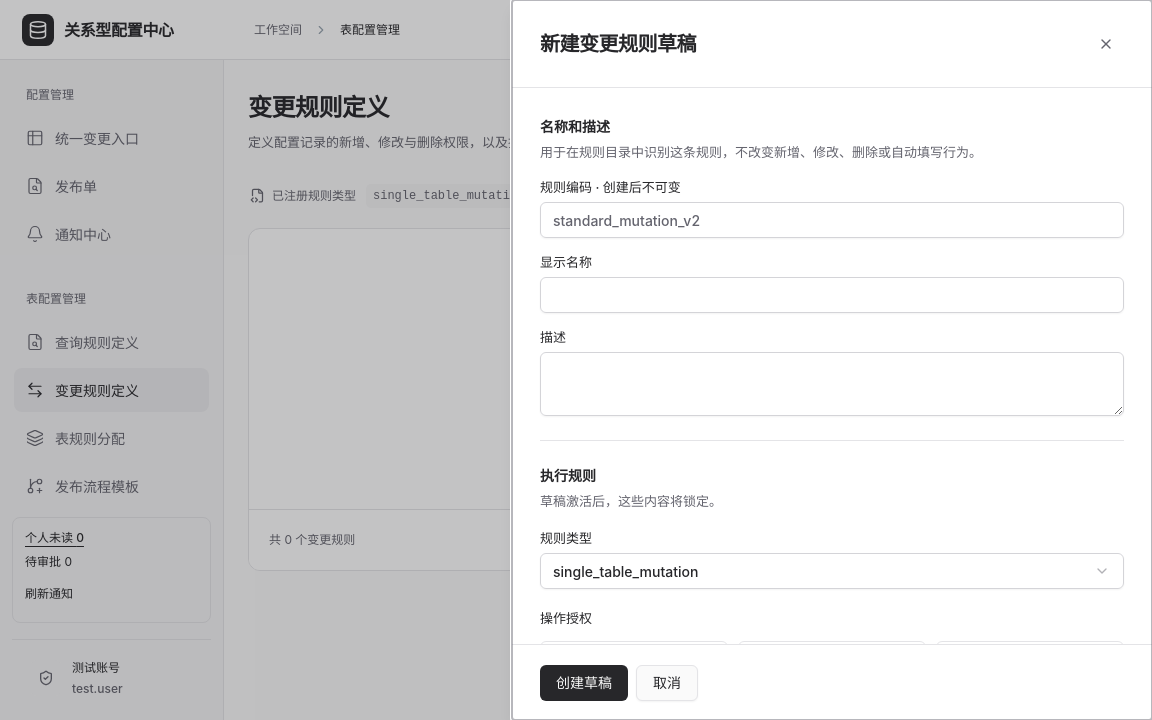
Scenario: keeps form input and presents stable Admin errors with Request ID
The width and height of the screenshot is (1152, 720).
Type "duplicate_mutation_v1" into the field labelled "规则编码 · 创建后不可变" at [832, 220], box x1=540 y1=202 x2=1124 y2=238
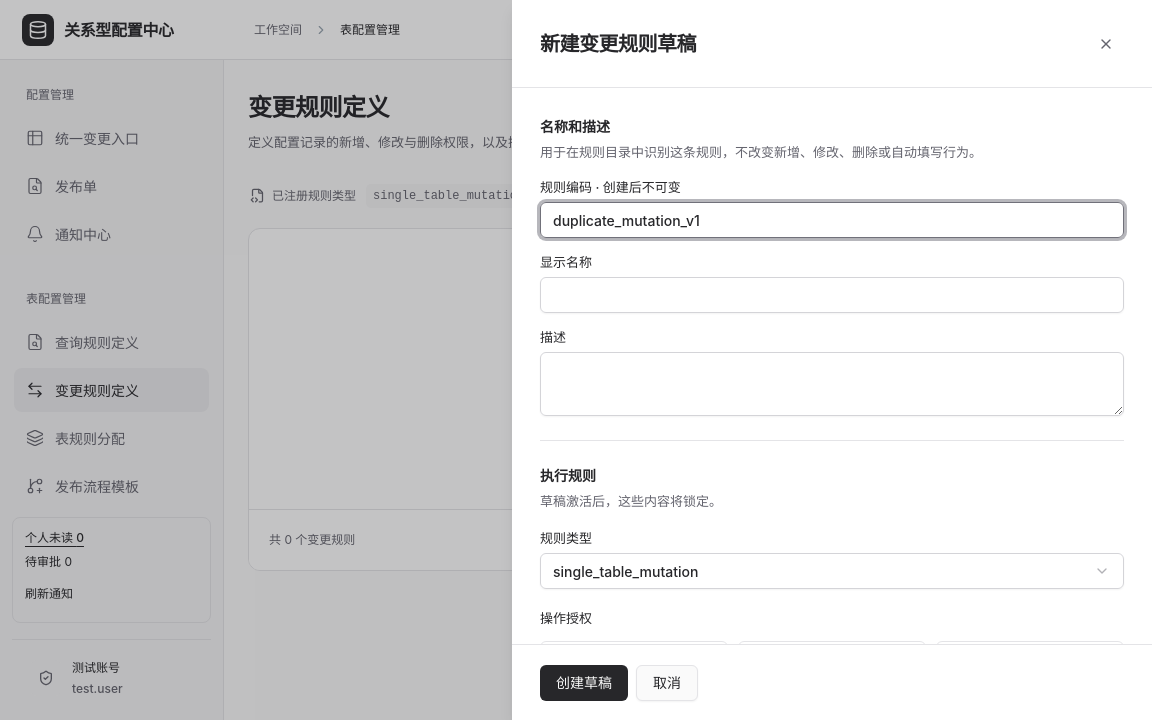
Type "重复规则" into the field labelled "显示名称" at [832, 295], box x1=540 y1=277 x2=1124 y2=313
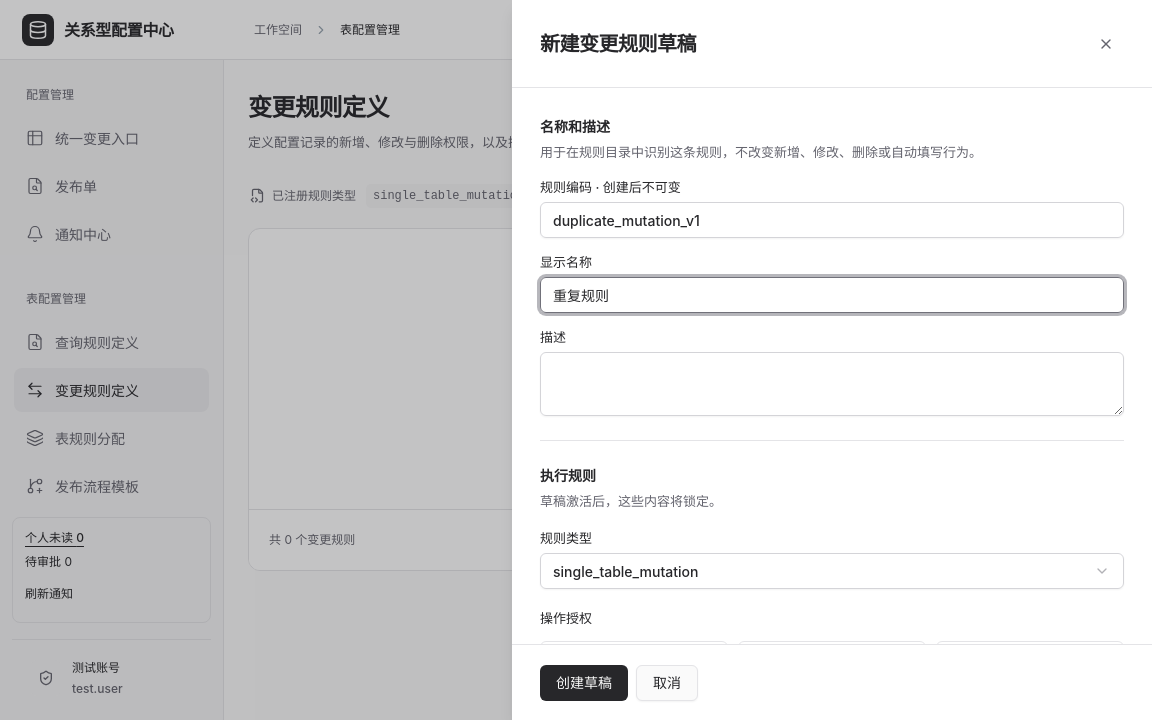
Click the button "创建草稿" at [584, 682], box x1=540 y1=664 x2=628 y2=700
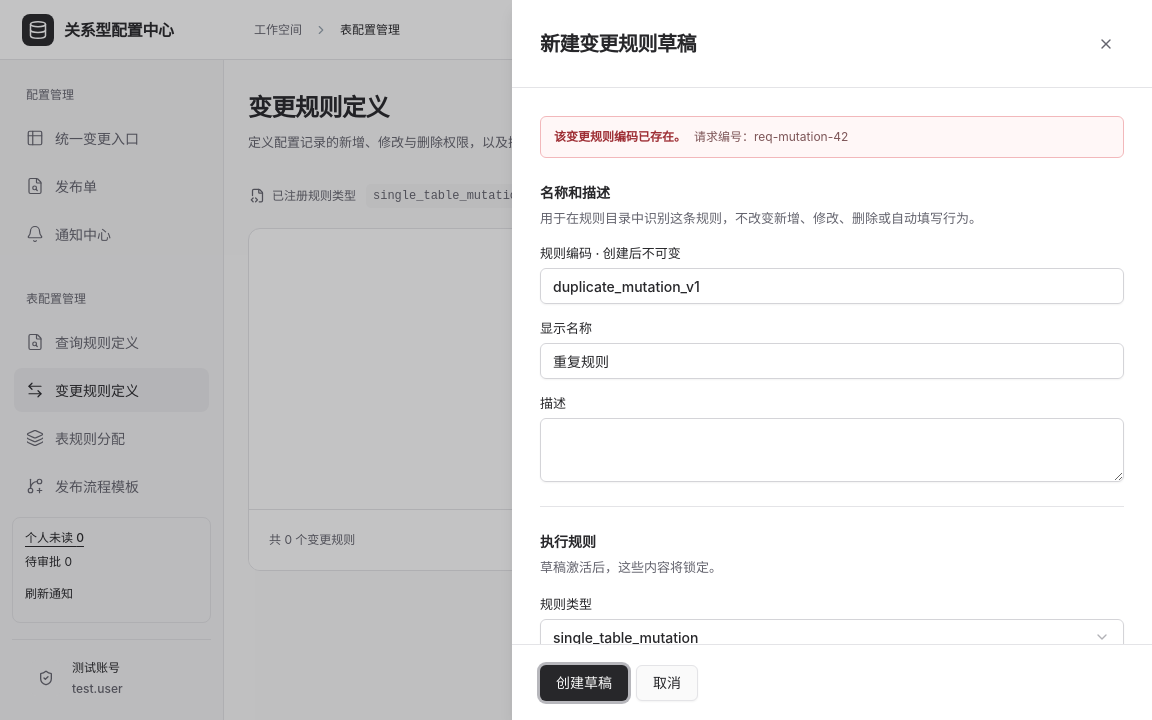
Check: the message shows "变更规则编码已存在", box x1=554 y1=129 x2=686 y2=144
Check: the message shows "req-mutation-42", box x1=754 y1=129 x2=848 y2=144
